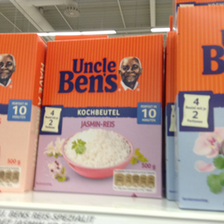rice: (32, 32, 164, 197)
